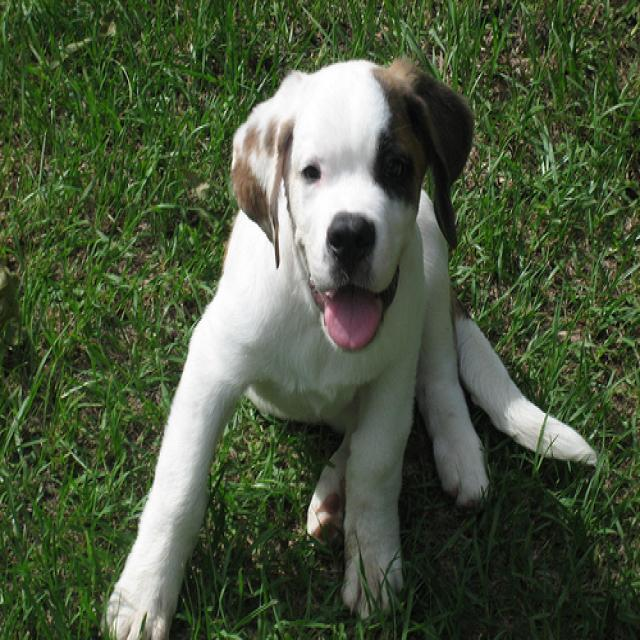dog-saint_bernard: (109, 55, 594, 637)
